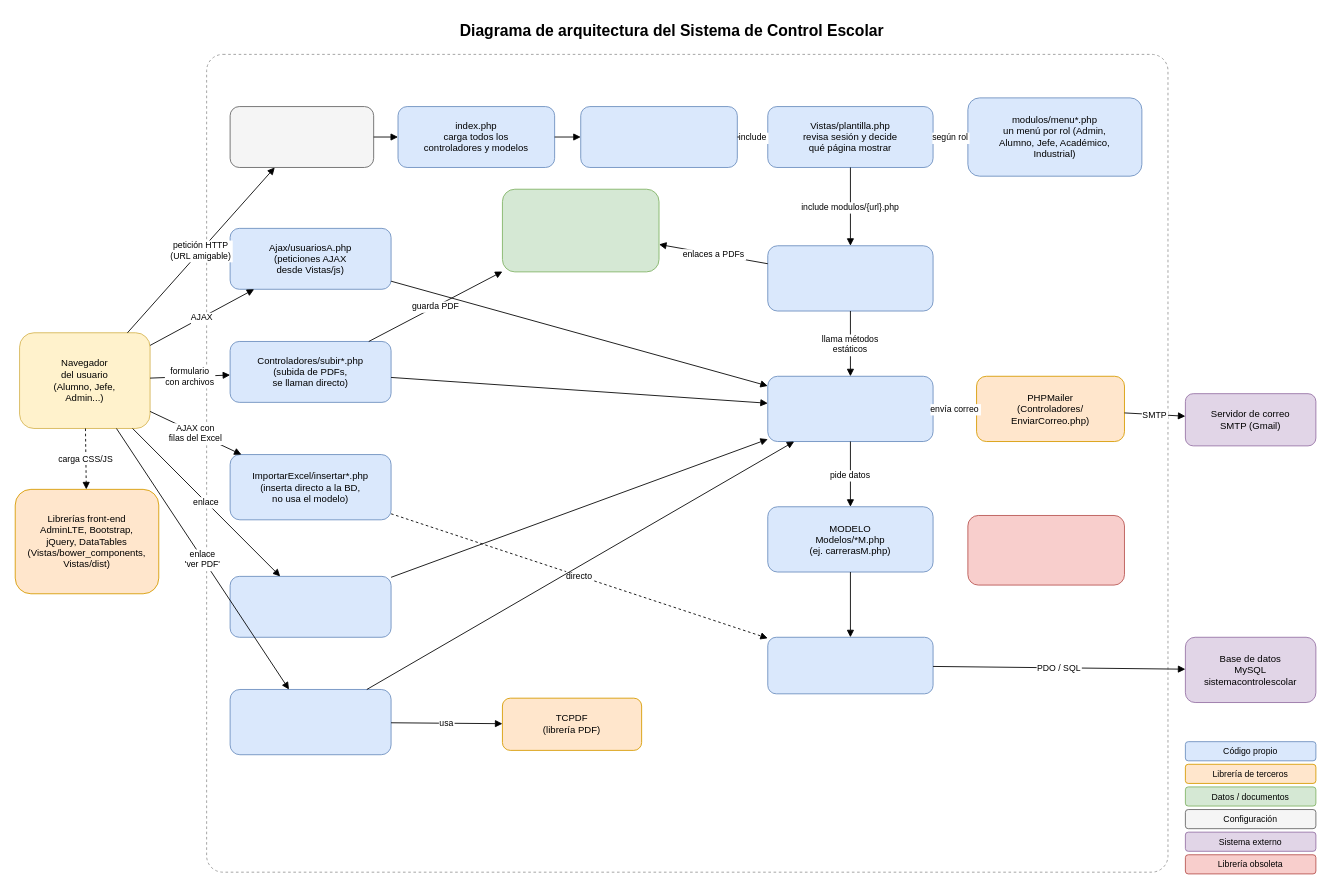
Some shapes in this 1331 by 889 pixel diagram are drawn without their labels. Each missing label, with the centre of its shape:
".htaccess reescribe la URL a index.php?url=..." belongs at point 301,136.
"Carpetas de archivos Documentos/, Kardex/, IMSS/, Servicio/, Documentacion/" belongs at point 580,230.
"CONTROLADOR Controladores/*C.php (ej. carrerasC.php)" belongs at point 850,408.
"expExcel/*.php (exporta usuarios y catálogo)" belongs at point 310,606.
"Modelos/ConexionBD.php conexión PDO" belongs at point 850,665.
"PHPExcel (Modelos/PHPExcel, impExcel/Classes) casi no se usa" belongs at point 1045,550.
"plantillaControlador.php verPlantilla()" belongs at point 658,136.
"tcpdf/pdf/*.php (Constancia, Carta de presentación, etc.)" belongs at point 310,722.
"VISTA Vistas/modulos/*.php (49 pantallas)" belongs at point 850,278.
